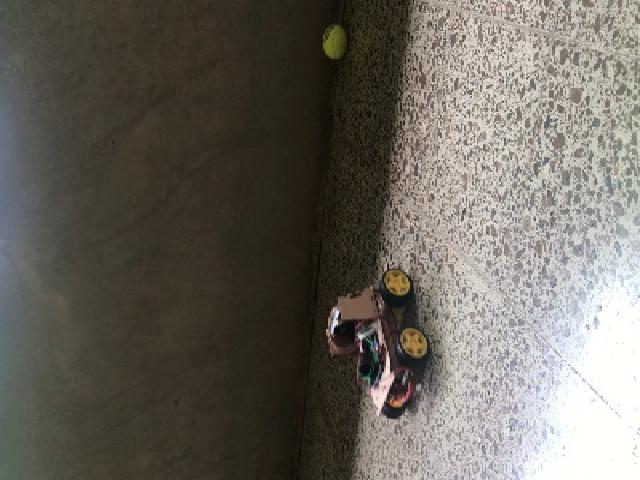Ball: (320, 26, 346, 58)
Robot: (323, 263, 430, 419)
